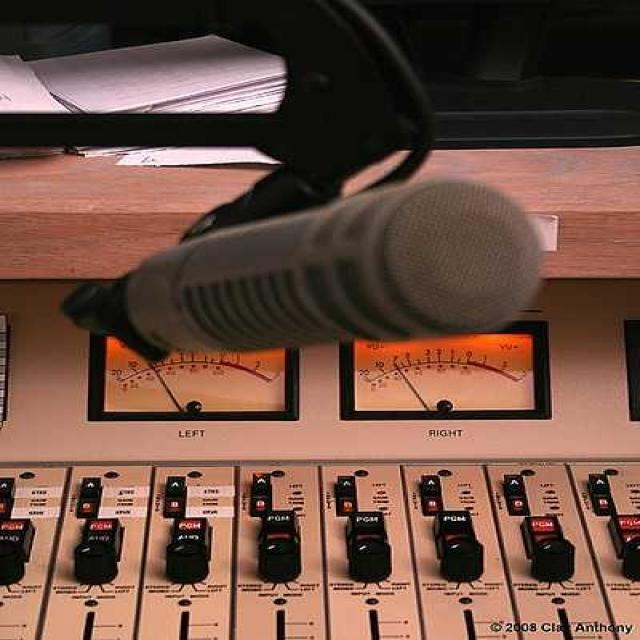microphone: (89, 163, 566, 369)
